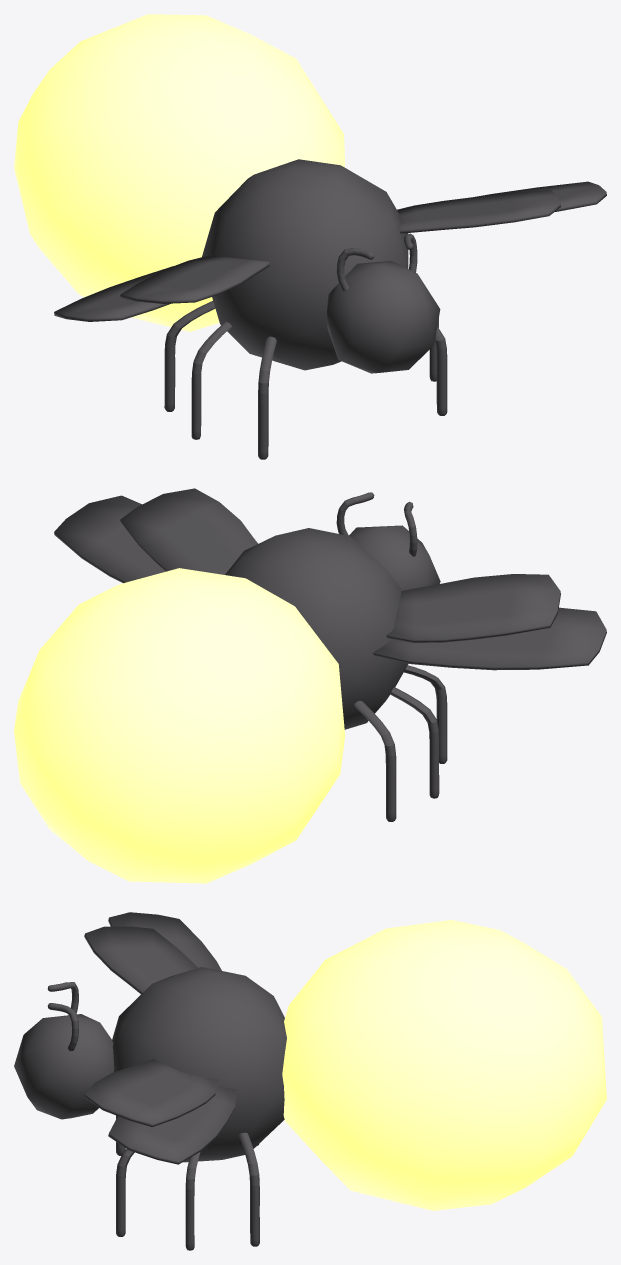
Rendered from Merge Firefly.glb.
3 renders of one model, top to bottom at view 1: azimuth 30°, elevation 25°; view 2: azimuth 150°, elevation 25°; view 3: azimuth 270°, elevation 25°, orthographic. The views are drawn at different scales.
Visible parts, largest first — view 1: Sphere.002, Cylinder; view 2: Sphere.002, Cylinder; view 3: Sphere.002, Cylinder.
Boxes of the visible parts, x1,y1,x2,y2 form: Sphere.002: [14, 14, 345, 331]; Cylinder: [54, 159, 606, 459]; Sphere.002: [14, 568, 345, 883]; Cylinder: [54, 488, 606, 821]; Sphere.002: [282, 920, 606, 1210]; Cylinder: [14, 912, 286, 1250].
Bounding box in the file's own units: 3.33 × 1.67 × 3.44.
